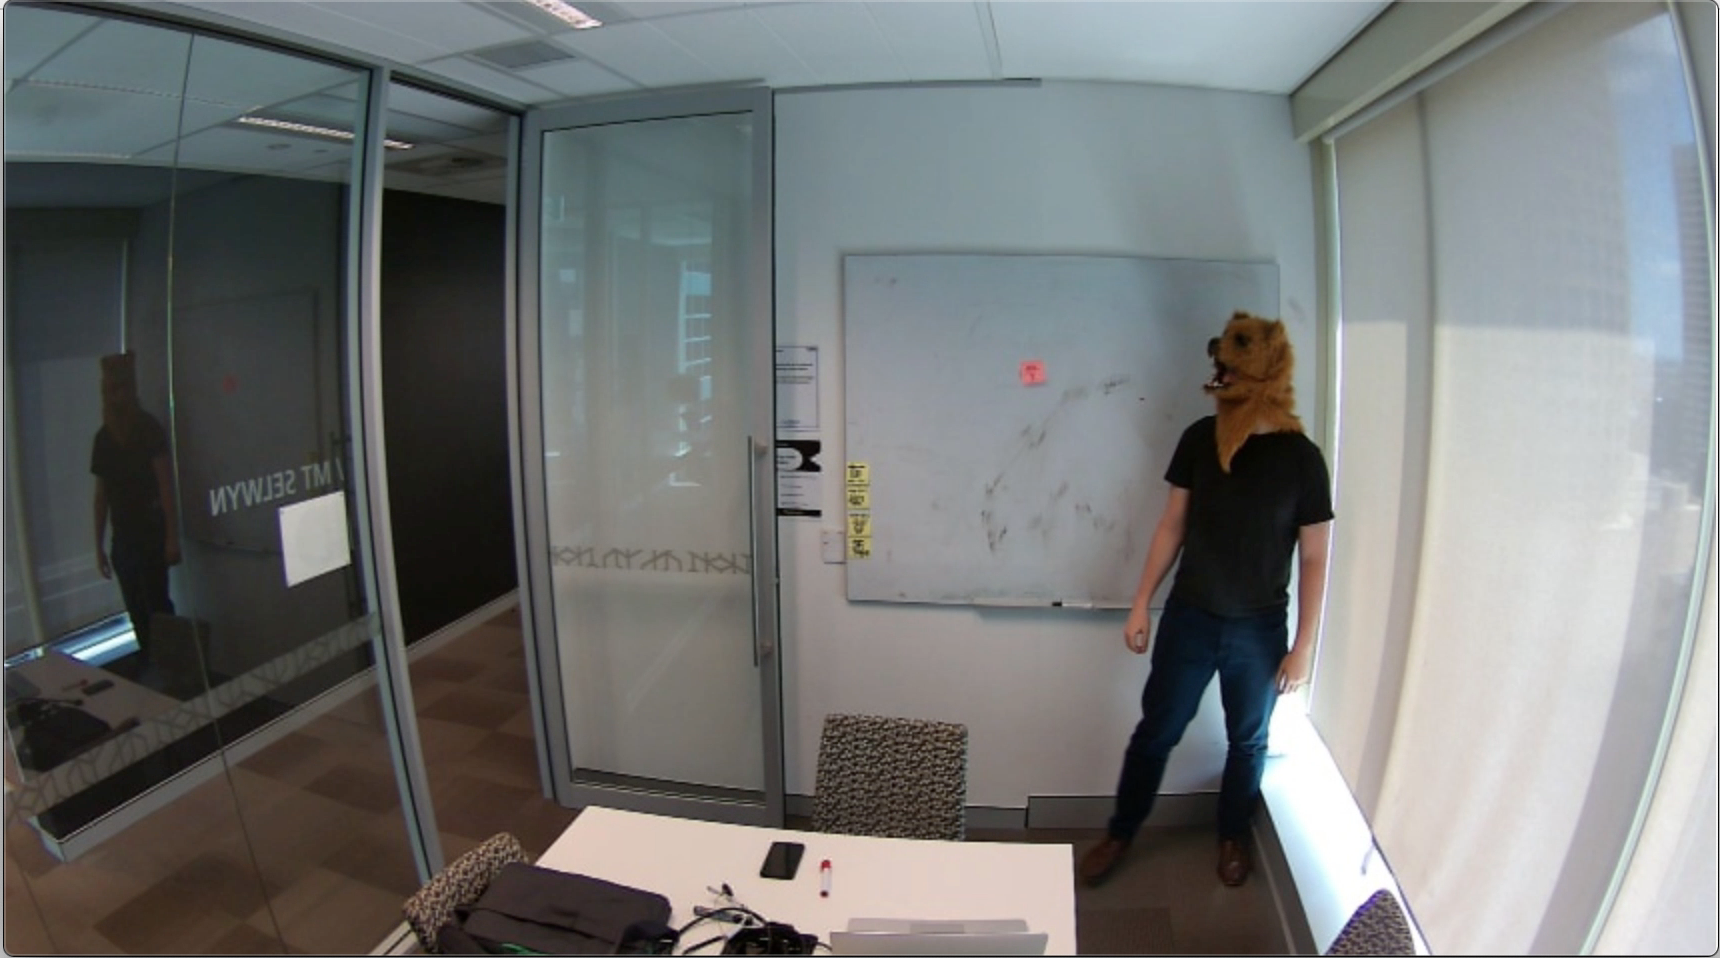Bear: (1199, 306, 1299, 416)
